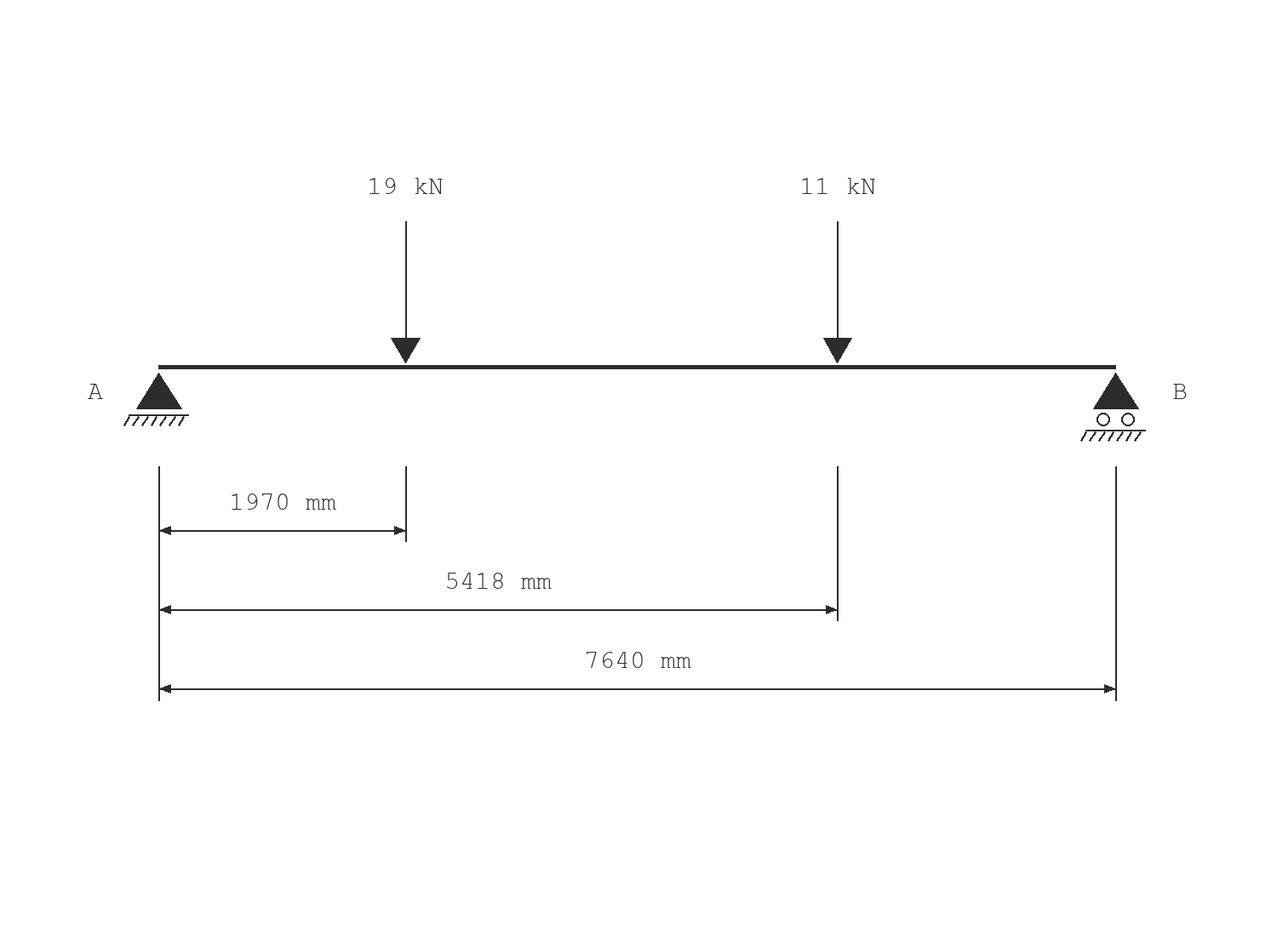pin_support: (123, 373, 189, 426)
point_load: (391, 221, 421, 363), (823, 221, 852, 363)
roller_support: (1080, 373, 1146, 442)
